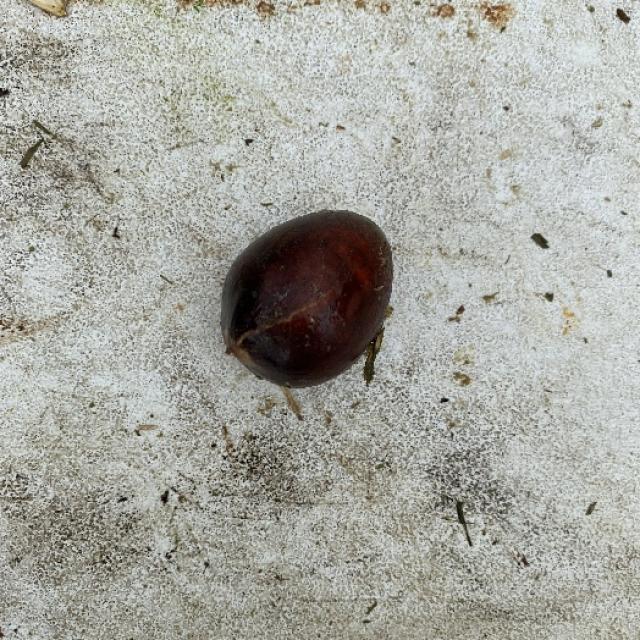organik: (219, 211, 396, 385)
